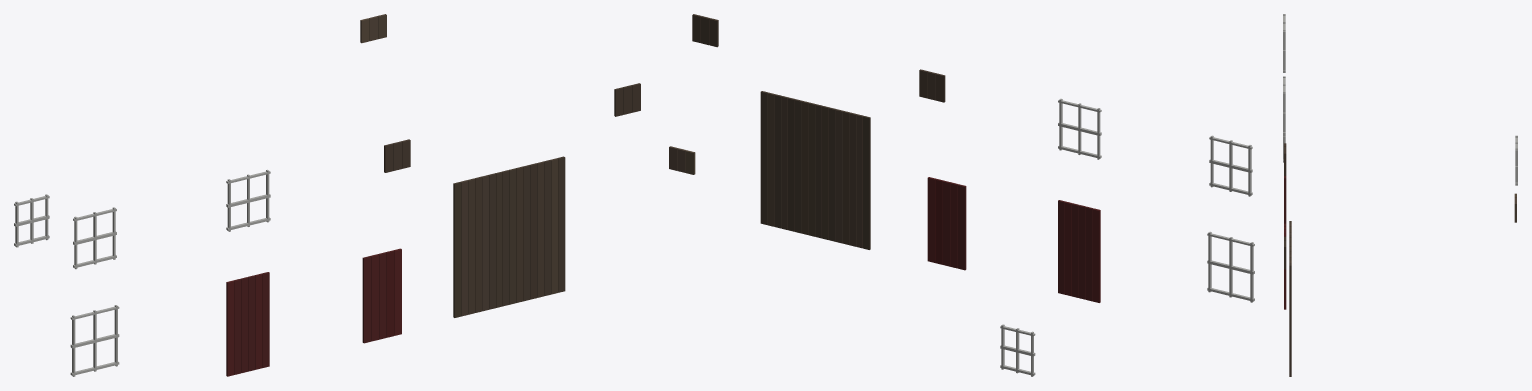
File: SM_Bld_032_Wood.glb
3 renders of one model, left to right at view 1: azimuth 30°, elevation 25°; view 2: azimuth 150°, elevation 25°; view 3: azimuth 270°, elevation 25°, orthographic. The views are drawn at different scales.
Visible parts, largest first — view 1: SM_Bld_032_Wood; view 2: SM_Bld_032_Wood; view 3: SM_Bld_032_Wood.
Boxes of the visible parts, x1=… form: SM_Bld_032_Wood: x1=14, y1=14, x2=640, y2=376; SM_Bld_032_Wood: x1=669, y1=14, x2=1254, y2=376; SM_Bld_032_Wood: x1=1283, y1=14, x2=1517, y2=376.
Size of the model in its own units: 13.35 by 4.4 by 5.74.
